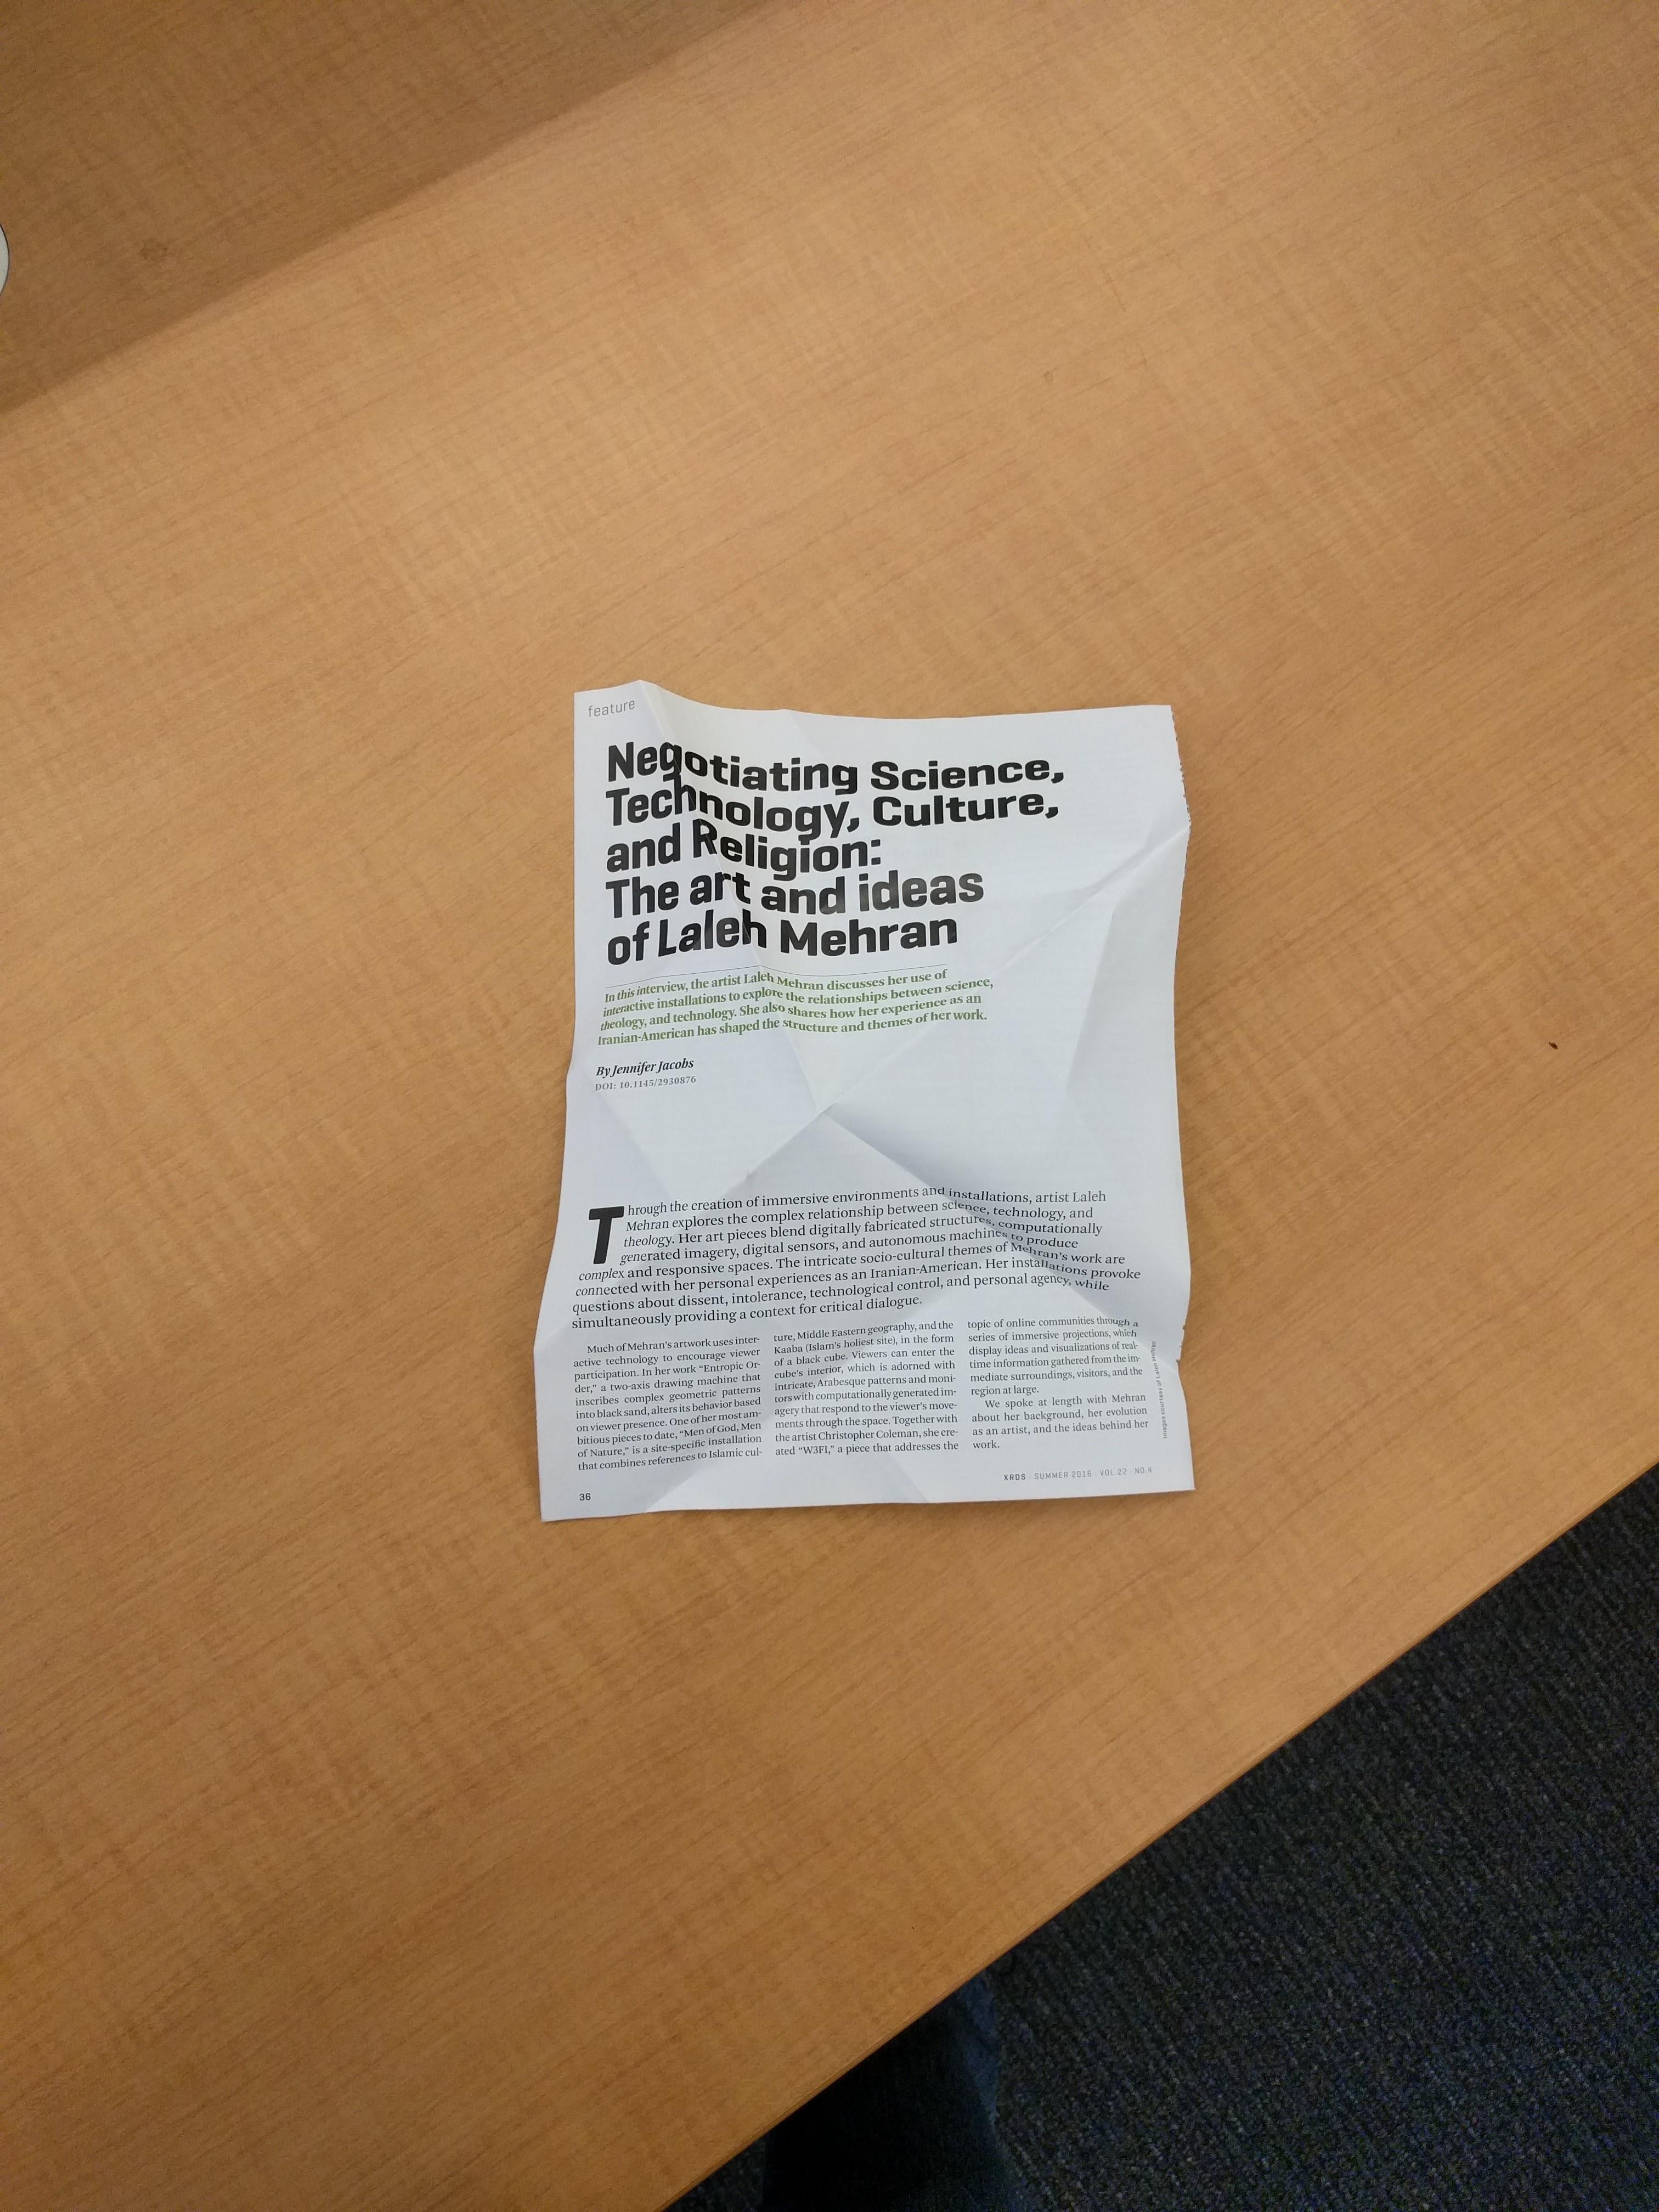paper: (373, 549, 1439, 1799)
